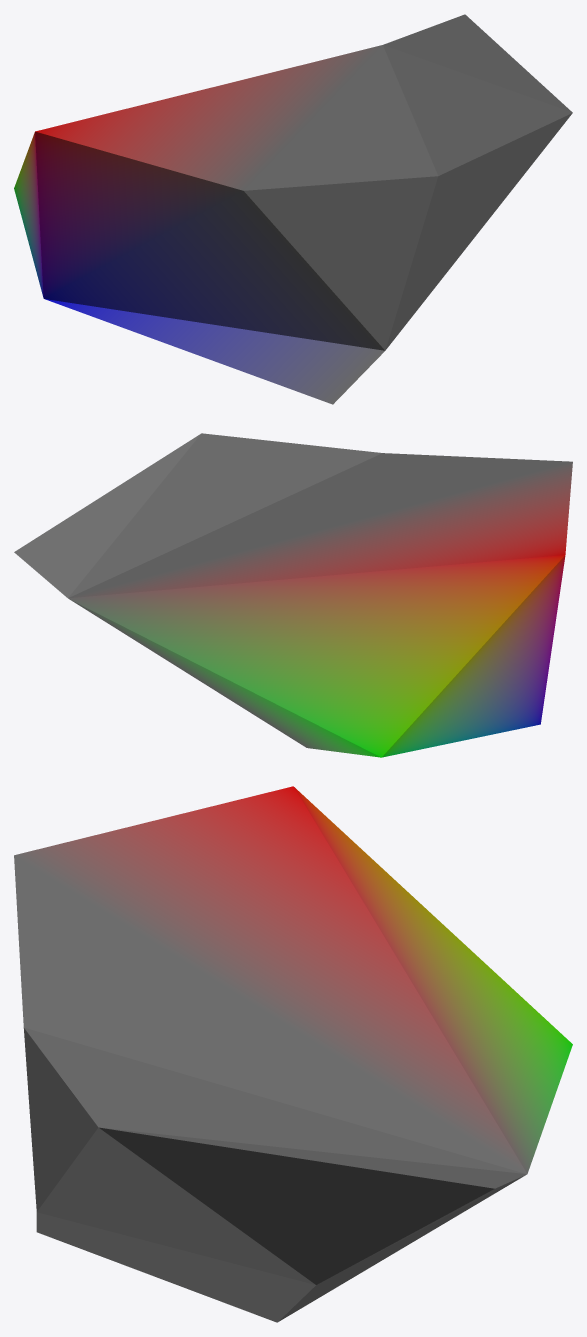
The model's file is Decimate8.obj.
The picture shows the model from 3 angles, top to bottom: view 1: azimuth 30°, elevation 25°; view 2: azimuth 150°, elevation 25°; view 3: azimuth 270°, elevation 25°; orthographic projection. The views are drawn at different scales.
Bounding box in the file's own units: 1.82 × 0.9531 × 1.34.
